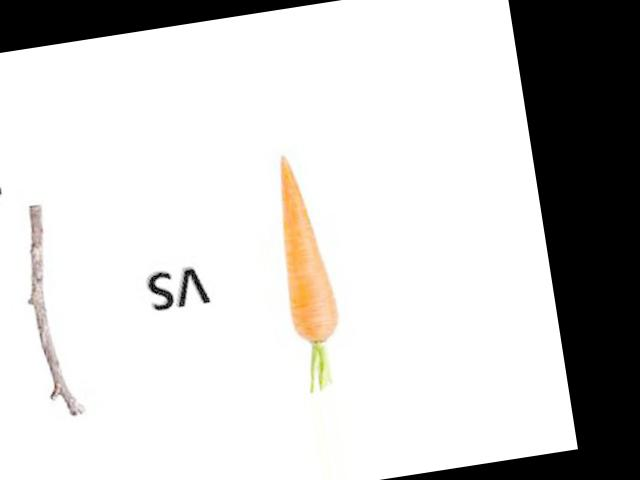carrot: (252, 144, 351, 352)
